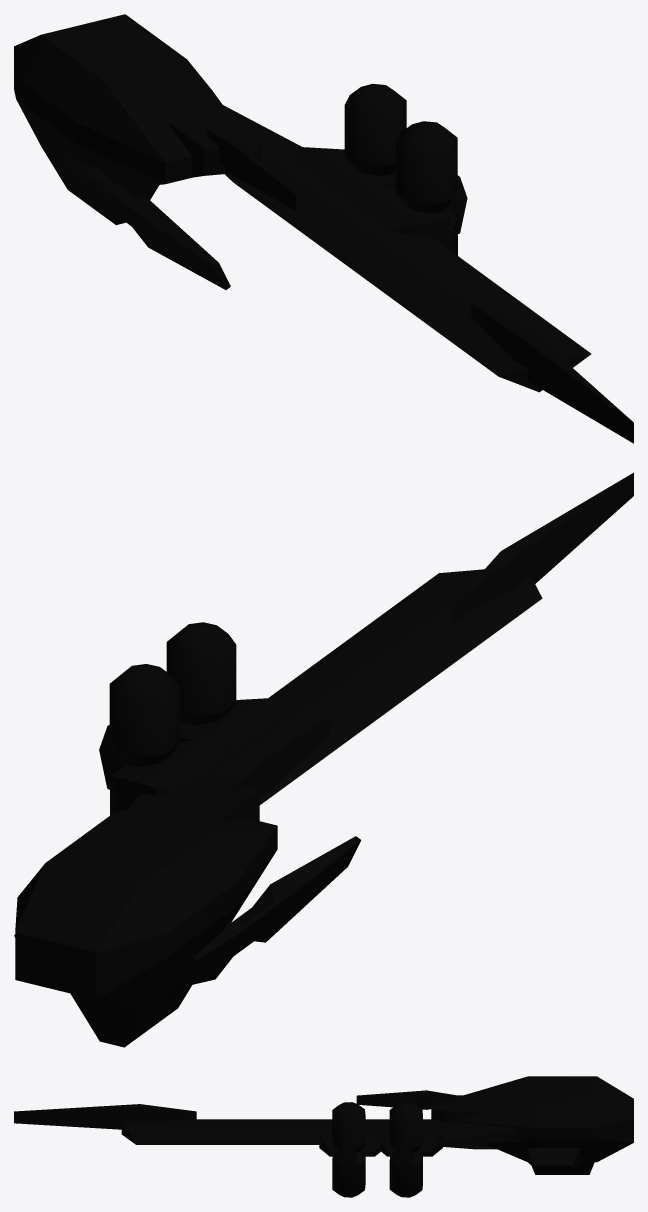
Rendered from sensor_hgn_l_02_t1.glb.
The picture shows the model from 3 angles, top to bottom: view 1: azimuth 30°, elevation 25°; view 2: azimuth 150°, elevation 25°; view 3: azimuth 270°, elevation 25°; orthographic projection. The views are drawn at different scales.
Visible parts, largest first — view 1: sensor_l_02_LOD0; view 2: sensor_l_02_LOD0; view 3: sensor_l_02_LOD0.
Part boxes in pixels (x1,y1,x2,y2): sensor_l_02_LOD0: (14,14,633,443); sensor_l_02_LOD0: (14,472,633,1047); sensor_l_02_LOD0: (14,1076,633,1197).
Size of the model in its own units: 0.8509 by 0.6786 by 3.63.
1 material, 1 textured.
